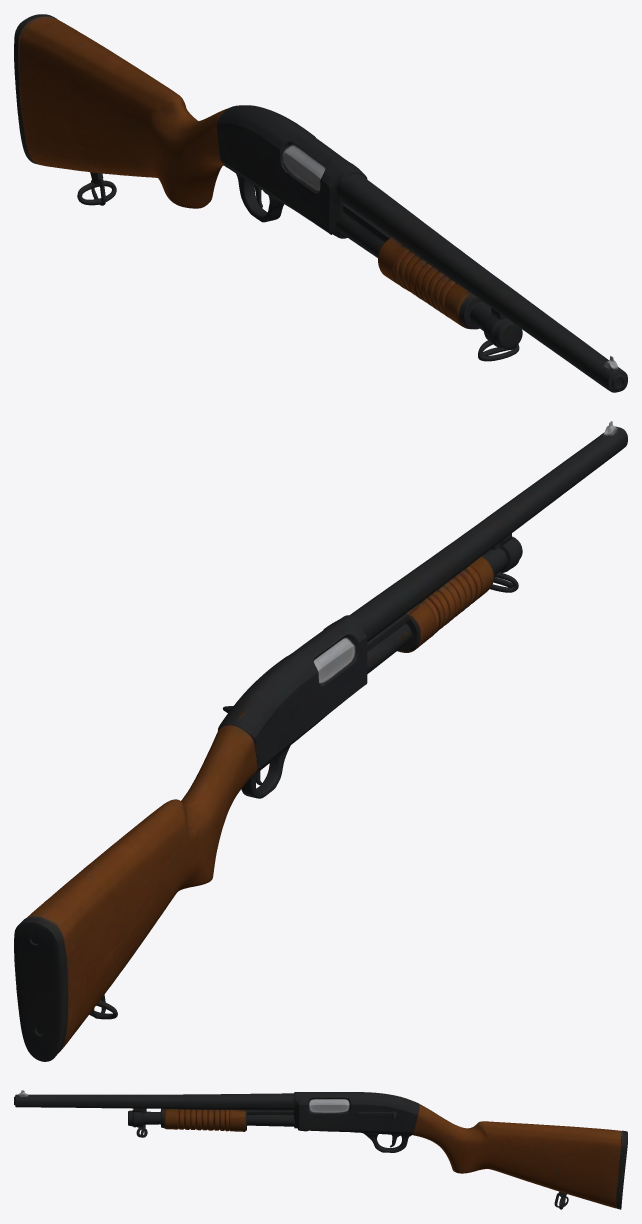
File: shotgun.lo.glb
3 renders of one model, top to bottom at view 1: azimuth 30°, elevation 25°; view 2: azimuth 150°, elevation 25°; view 3: azimuth 270°, elevation 25°, orthographic. The views are drawn at different scales.
Parts seen in each view (by area): view 1: model; view 2: model; view 3: model.
Boxes of the visible parts, bbox=[...] form: model: bbox=[14, 14, 627, 392]; model: bbox=[14, 421, 627, 1061]; model: bbox=[14, 1090, 627, 1209].
Size of the model in its own units: 0.1103 by 0.4025 by 1.9.
1 material, 1 textured.
